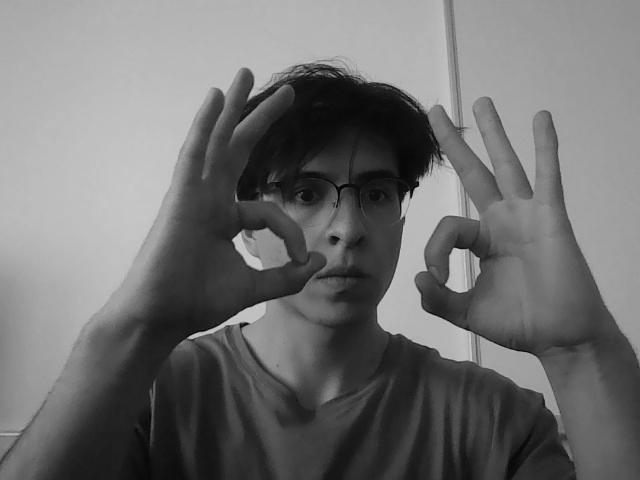OK: (106, 62, 319, 339), (409, 94, 608, 361)
